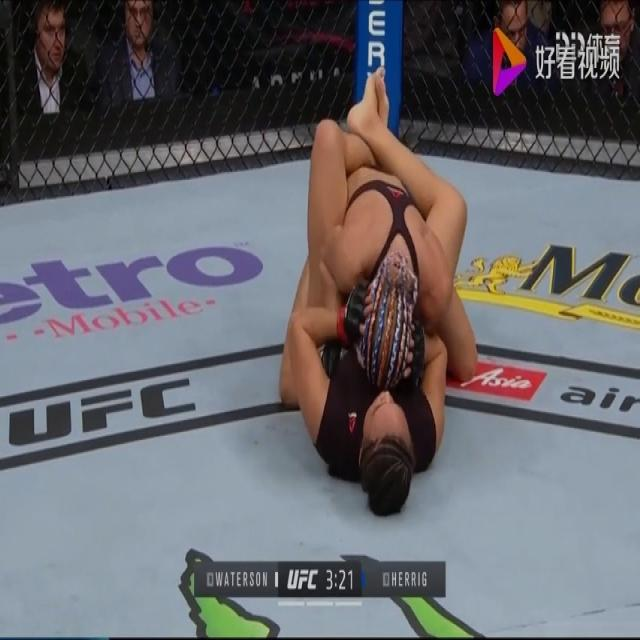fight: (269, 68, 493, 524)
